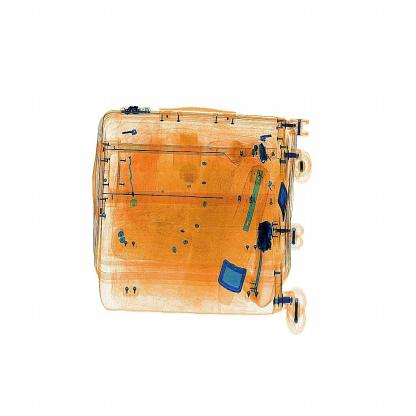scissors: (250, 204, 280, 260)
